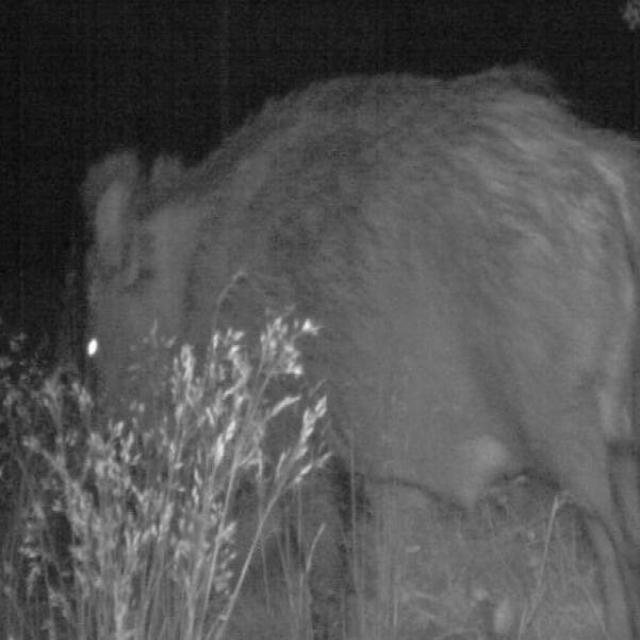pig: (56, 29, 640, 525)
